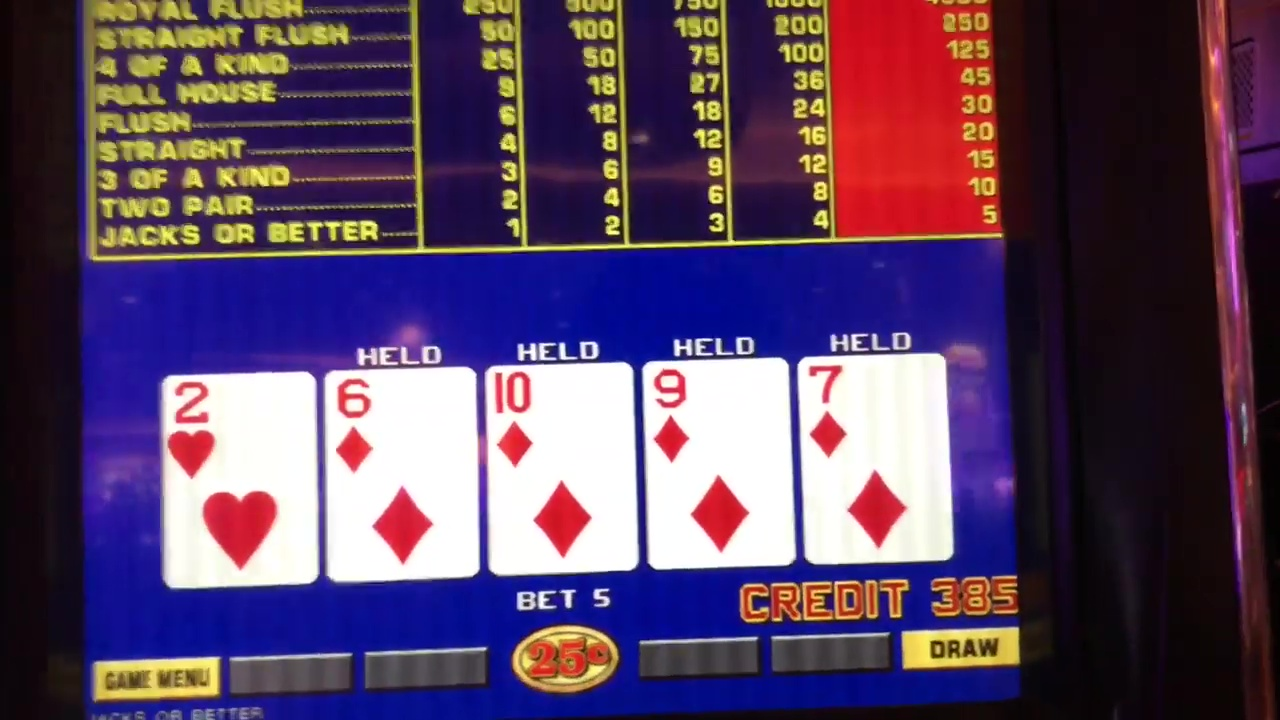D6: (328, 373, 475, 483)
D7: (802, 355, 938, 466)
D9: (647, 361, 788, 472)
DT: (493, 364, 632, 476)
H2: (174, 376, 308, 488)
